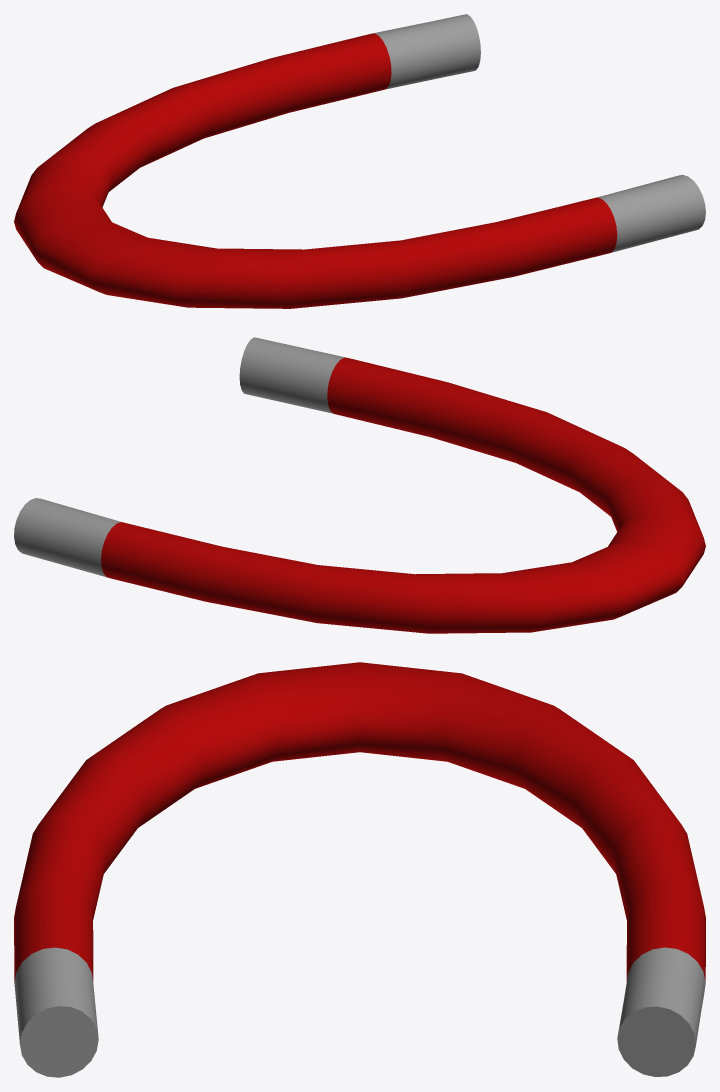
File: magnet.glb
The picture shows the model from 3 angles, top to bottom: view 1: azimuth 30°, elevation 25°; view 2: azimuth 150°, elevation 25°; view 3: azimuth 270°, elevation 25°; orthographic projection. The views are drawn at different scales.
Visible parts, largest first — view 1: pTorus1; view 2: pTorus1; view 3: pTorus1.
Part boxes in pixels (x1,y1,x2,y2): pTorus1: (14, 14, 705, 308); pTorus1: (14, 337, 705, 633); pTorus1: (14, 662, 705, 1077).
Size of the model in its own units: 0.4 by 0.0367 by 0.3213.
